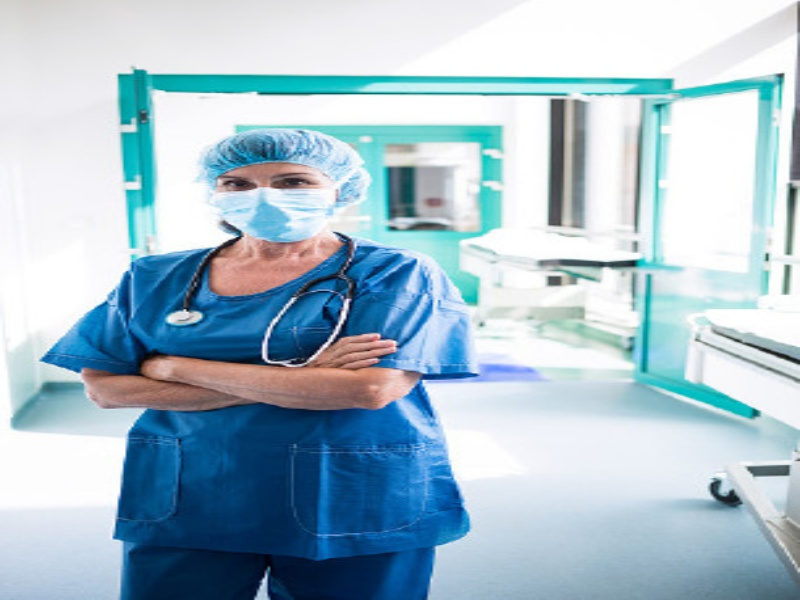mask: (189, 125, 355, 252)
